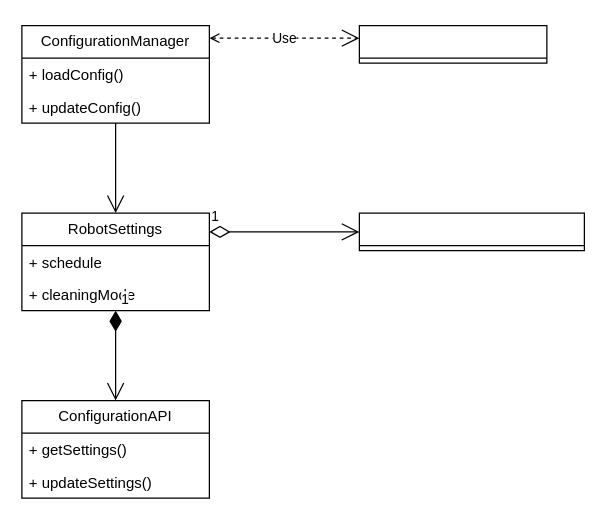
The diagram is 606 pixels wide and 524 high, and some of its shapes have lost their labels. Here are the shapes that lost their labels. From the top down, the box of each, then its label:
(358, 24, 547, 63): ConfigurationLoader
(358, 212, 584, 251): BusinessLogicComponent
